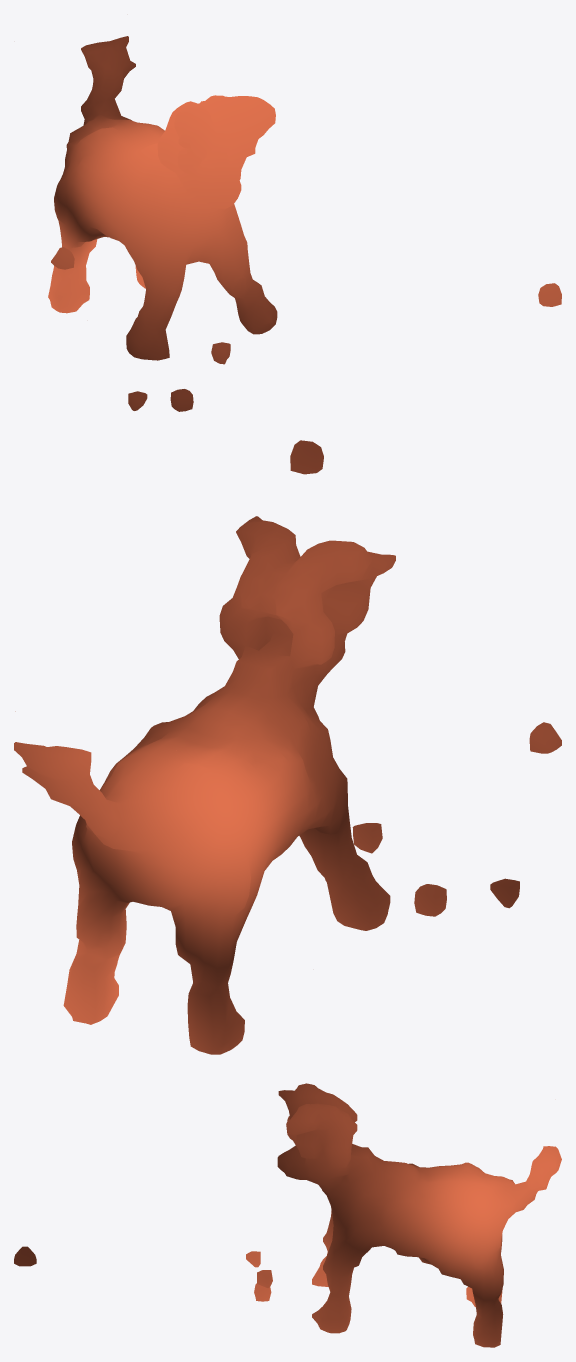
File: quadriped.gltf
3 renders of one model, top to bottom at view 1: azimuth 30°, elevation 25°; view 2: azimuth 150°, elevation 25°; view 3: azimuth 270°, elevation 25°, orthographic. The views are drawn at different scales.
Parts seen in each view (by area): view 1: GDExample; view 2: GDExample; view 3: GDExample.
Boxes of the visible parts, x1,y1,x2,y2 form: GDExample: [48, 36, 561, 411]; GDExample: [14, 440, 561, 1054]; GDExample: [14, 1083, 561, 1347].
Size of the model in its own units: 3.03 by 2.32 by 4.96.
